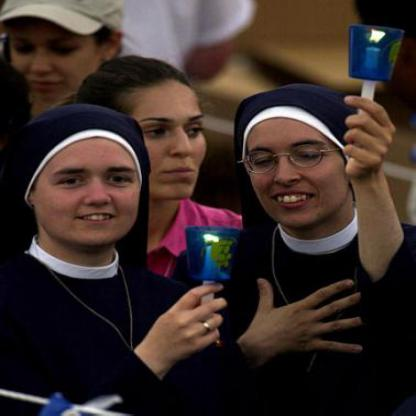face: (113, 55, 214, 205), (33, 116, 147, 247), (242, 97, 351, 230), (8, 1, 100, 106)
